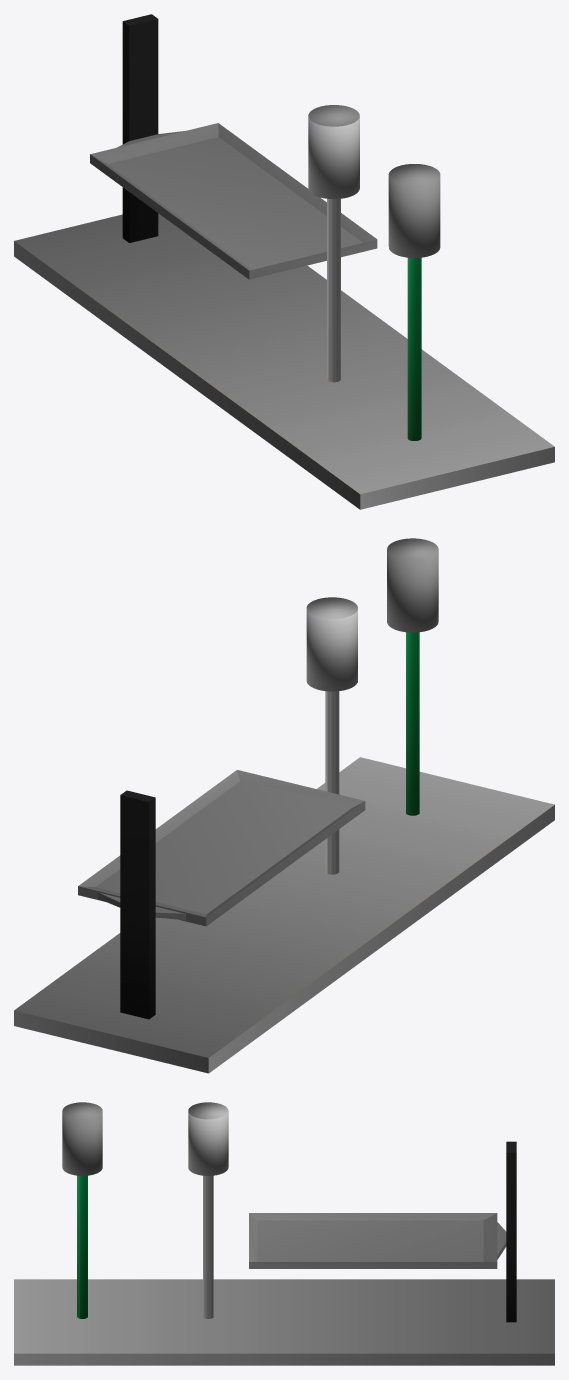
The model's file is Pérdidas en tuberías y accesorios.fbx.
3 views of the same model, one above another, from view 1: azimuth 30°, elevation 25°; view 2: azimuth 150°, elevation 25°; view 3: azimuth 270°, elevation 25° (orthographic). The views are drawn at different scales.
Visible parts, largest first — view 1: Cube.002, Cube, Cube.001; view 2: Cube.002, Cube, Cube.001; view 3: Cube.002, Cube, Cube.001.
Part boxes in pixels (bbox=[...]): Cube.002: bbox=[14, 14, 554, 509]; Cube: bbox=[388, 164, 440, 440]; Cube.001: bbox=[308, 105, 359, 382]; Cube.002: bbox=[14, 757, 554, 1073]; Cube: bbox=[387, 538, 438, 815]; Cube.001: bbox=[306, 597, 357, 874]; Cube.002: bbox=[14, 1141, 554, 1365]; Cube: bbox=[62, 1102, 102, 1318]; Cube.001: bbox=[188, 1102, 228, 1318].
Bounding box in the file's own units: 169 × 231 × 519.
